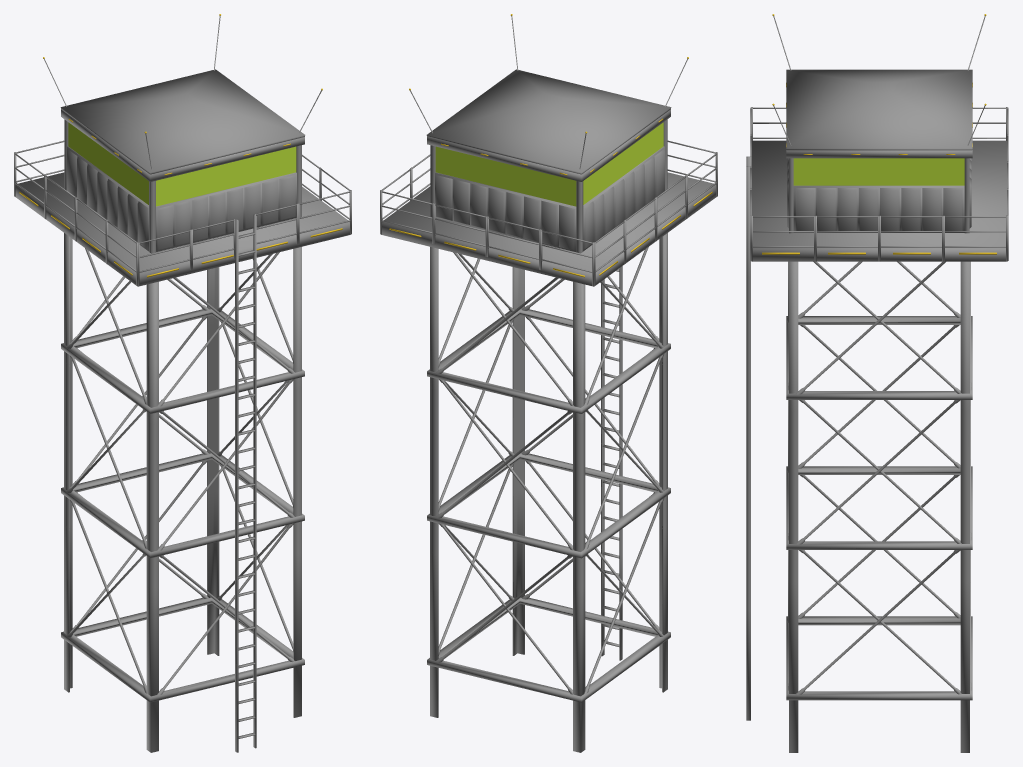
Rendered from SM_watchtower.FBX.
The picture shows the model from 3 angles, left to right: view 1: azimuth 30°, elevation 25°; view 2: azimuth 150°, elevation 25°; view 3: azimuth 270°, elevation 25°; orthographic projection. The views are drawn at different scales.
Visible parts, largest first — view 1: Object015; view 2: Object015; view 3: Object015.
Boxes of the visible parts, left/top/right/bottom form: Object015: left=14, top=14, right=351, bottom=752; Object015: left=380, top=14, right=717, bottom=752; Object015: left=746, top=14, right=1008, bottom=752.
Size of the model in its own units: 4452 by 12489 by 4521.
